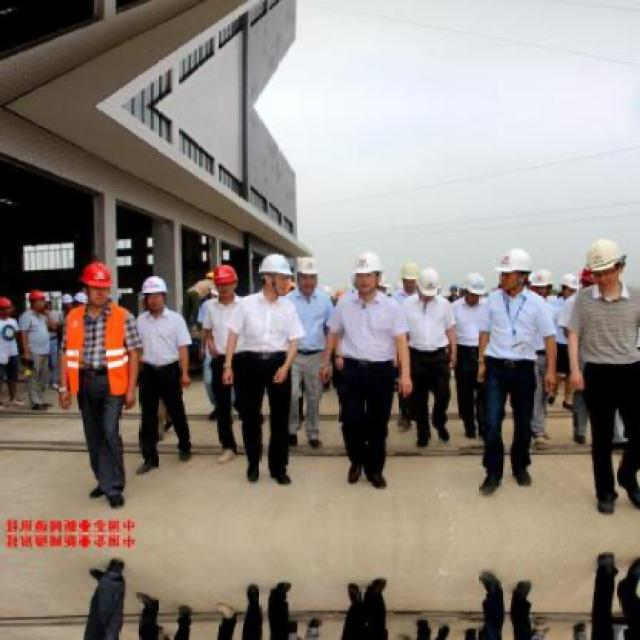con casco: (478, 237, 561, 315), (567, 232, 640, 296), (64, 253, 132, 305), (244, 251, 293, 295), (286, 257, 328, 306), (128, 276, 174, 319), (411, 271, 455, 310), (350, 253, 378, 314), (218, 257, 247, 305)
